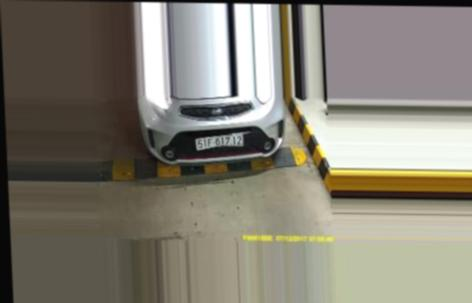License_Plate: (195, 133, 247, 151)
